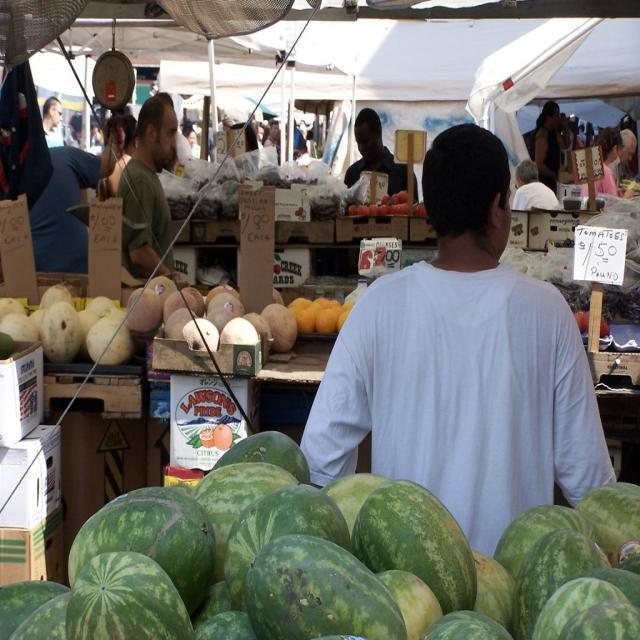Watermelon: (0, 426, 639, 639)
